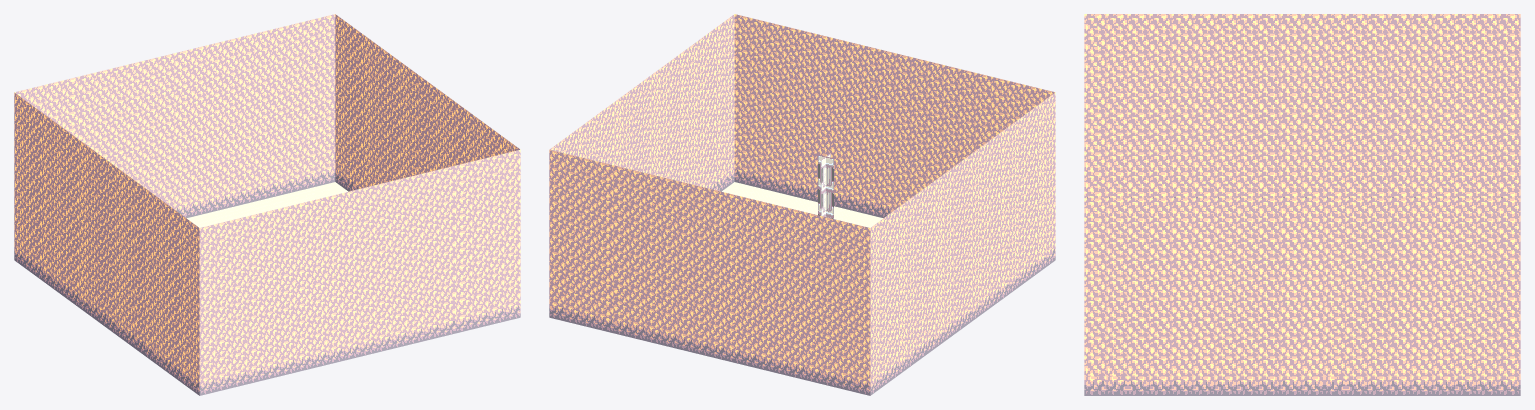
The model's file is BoxRoom.gltf.
3 renders of one model, left to right at view 1: azimuth 30°, elevation 25°; view 2: azimuth 150°, elevation 25°; view 3: azimuth 270°, elevation 25°, orthographic. The views are drawn at different scales.
Parts seen in each view (by area): view 1: Room-col; view 2: Room-col; view 3: Room-col.
Part boxes in pixels (<box>): Room-col: <box>14,14,520,395</box>; Room-col: <box>549,14,1055,395</box>; Room-col: <box>1084,14,1520,395</box>.
Size of the model in its own units: 20 by 10 by 20.
